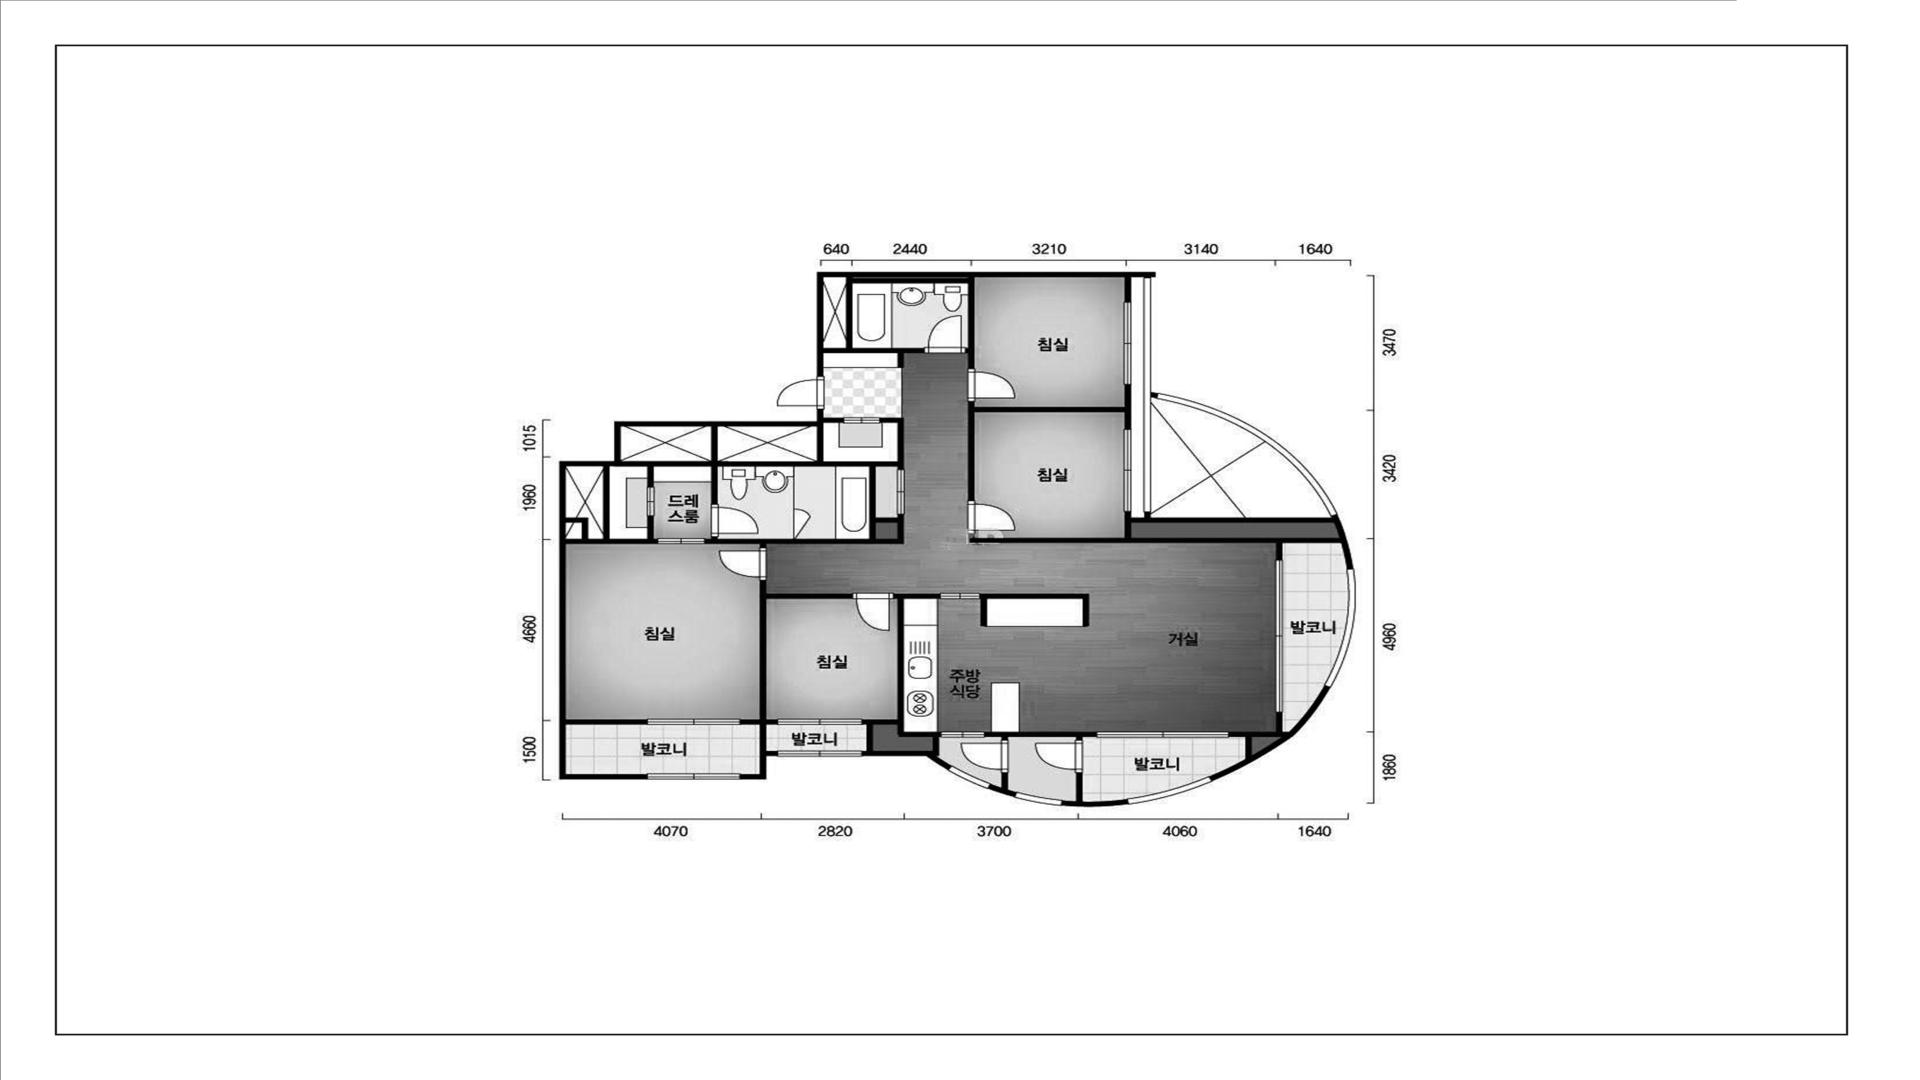door: (775, 376, 825, 410), (923, 315, 968, 353), (1035, 740, 1084, 774), (719, 547, 767, 582), (968, 368, 1017, 402), (711, 504, 760, 538), (852, 592, 894, 632), (967, 501, 1017, 534), (960, 740, 1009, 773), (793, 508, 812, 538), (658, 538, 705, 543), (940, 732, 985, 737), (940, 593, 980, 599)
wall: (559, 410, 824, 779), (816, 272, 1131, 376), (1124, 513, 1354, 568), (1209, 686, 1331, 781), (975, 538, 1341, 543), (862, 750, 952, 770), (621, 462, 898, 467), (760, 582, 766, 750), (740, 750, 777, 779), (705, 538, 905, 543), (975, 406, 1125, 413), (898, 599, 905, 737), (968, 402, 975, 500), (853, 278, 968, 284), (566, 538, 657, 545), (968, 277, 975, 368), (985, 732, 1096, 737), (980, 593, 1089, 599), (1062, 799, 1129, 807), (824, 348, 923, 353), (603, 467, 609, 538), (847, 277, 853, 348), (869, 467, 876, 538), (767, 593, 852, 599), (567, 719, 646, 724), (988, 783, 1017, 796), (1229, 732, 1290, 737), (1125, 385, 1131, 429), (816, 427, 824, 462), (894, 593, 940, 599), (898, 423, 903, 469), (711, 467, 717, 504), (711, 427, 717, 462), (905, 732, 940, 737), (862, 719, 898, 724), (1083, 599, 1089, 626), (980, 599, 986, 626), (1076, 774, 1083, 802), (866, 725, 873, 750), (876, 517, 898, 524), (647, 516, 654, 538), (1275, 713, 1283, 732), (1246, 737, 1253, 758), (880, 418, 905, 423), (647, 467, 654, 487), (1275, 543, 1283, 559), (898, 514, 903, 538), (566, 517, 588, 522), (1124, 524, 1131, 538), (582, 522, 588, 538), (740, 719, 760, 724), (824, 418, 844, 423), (932, 737, 939, 750), (898, 353, 903, 368), (1002, 774, 1007, 789), (968, 534, 975, 543), (766, 719, 777, 724), (1076, 737, 1083, 740), (1001, 737, 1007, 740), (760, 545, 766, 547)
window: (1324, 568, 1356, 688), (1126, 777, 1212, 804), (1275, 559, 1283, 713), (948, 765, 992, 789), (1014, 791, 1063, 806), (1096, 732, 1229, 737), (1124, 429, 1131, 513), (1124, 302, 1131, 385), (646, 773, 740, 779), (646, 719, 740, 725), (777, 750, 862, 757), (777, 719, 862, 725)
